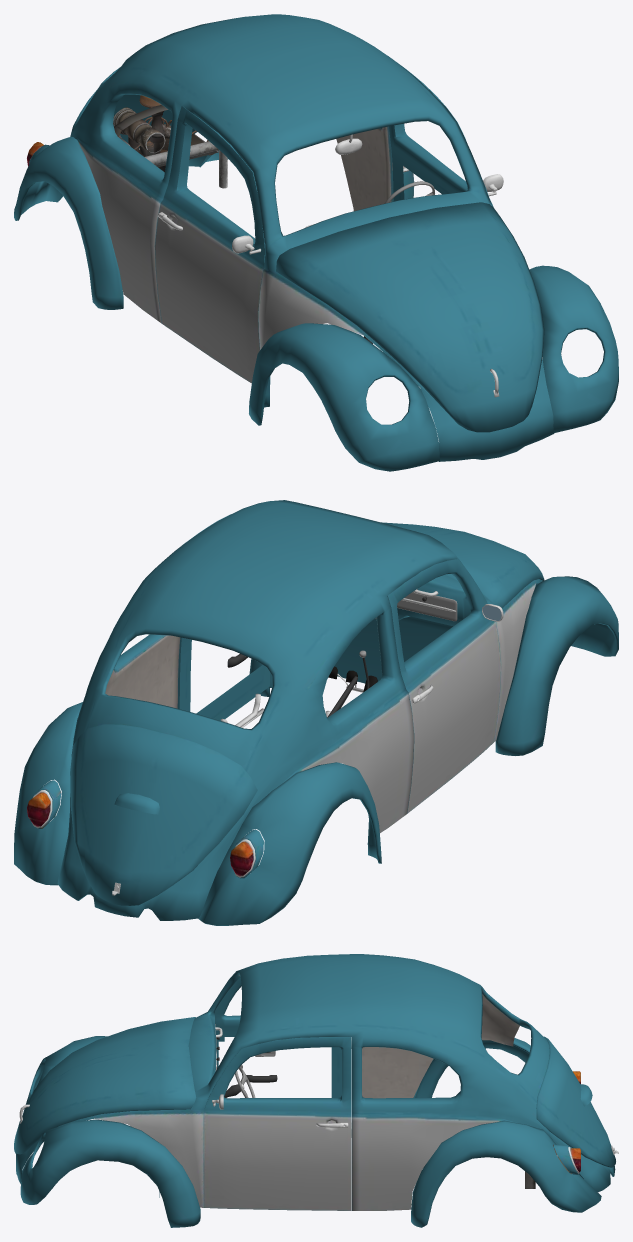
File: beetle-fusca-version-1-cb6e82.glb
3 views of the same model, one above another, from view 1: azimuth 30°, elevation 25°; view 2: azimuth 150°, elevation 25°; view 3: azimuth 270°, elevation 25° (orthographic). The views are drawn at different scales.
Visible parts, largest first — view 1: body; view 2: body; view 3: body.
Part boxes in pixels (bbox=[...]): body: bbox=[14, 14, 618, 471]; body: bbox=[14, 500, 618, 925]; body: bbox=[14, 954, 618, 1227].
Bounding box in the file's own units: 2.19 × 1.83 × 5.09.
2 materials, 2 textured.
